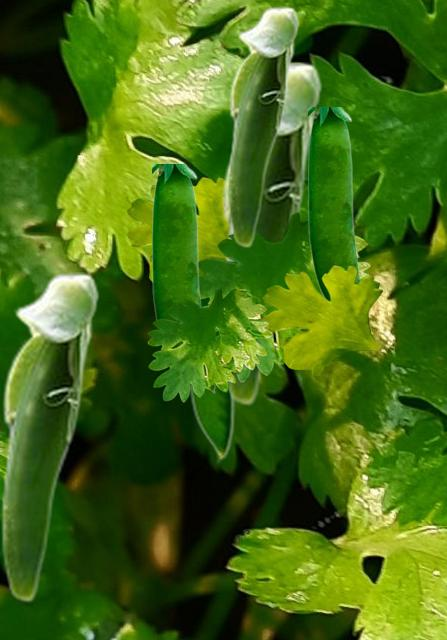pea: (219, 62, 322, 405), (0, 272, 99, 602), (227, 6, 299, 247), (152, 164, 214, 392), (308, 107, 360, 298), (187, 298, 234, 463)
